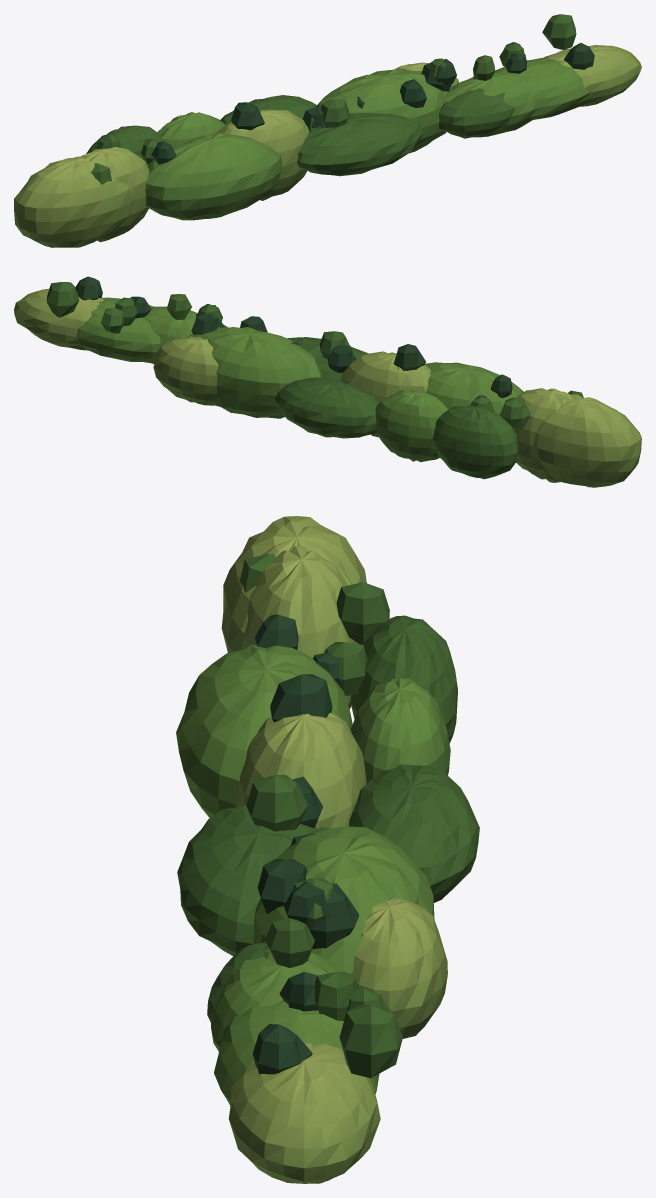
File: hills.glb
3 renders of one model, top to bottom at view 1: azimuth 30°, elevation 25°; view 2: azimuth 150°, elevation 25°; view 3: azimuth 270°, elevation 25°, orthographic. The views are drawn at different scales.
Parts seen in each view (by area): view 1: hills; view 2: hills; view 3: hills.
Part boxes in pixels (box(x1,y1,x2,y2)): hills: box(14, 14, 641, 247); hills: box(14, 276, 641, 487); hills: box(176, 516, 479, 1183).
Size of the model in its own units: 109 by 16.7 by 23.08.
